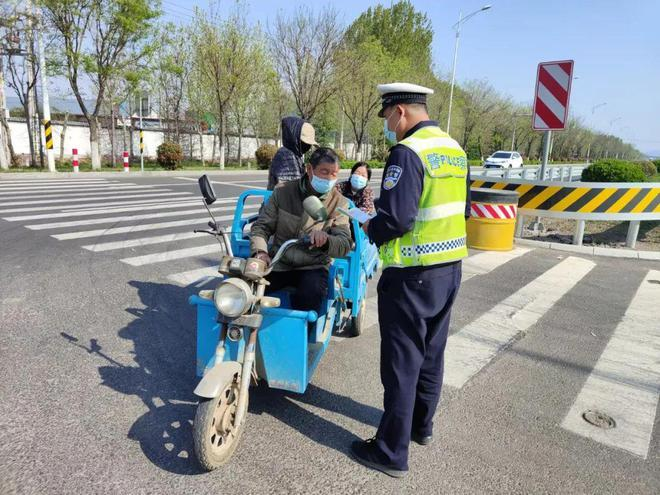driver: (246, 148, 340, 334)
overloading: (156, 120, 393, 451)
passenger: (273, 117, 311, 180), (351, 162, 371, 237)
